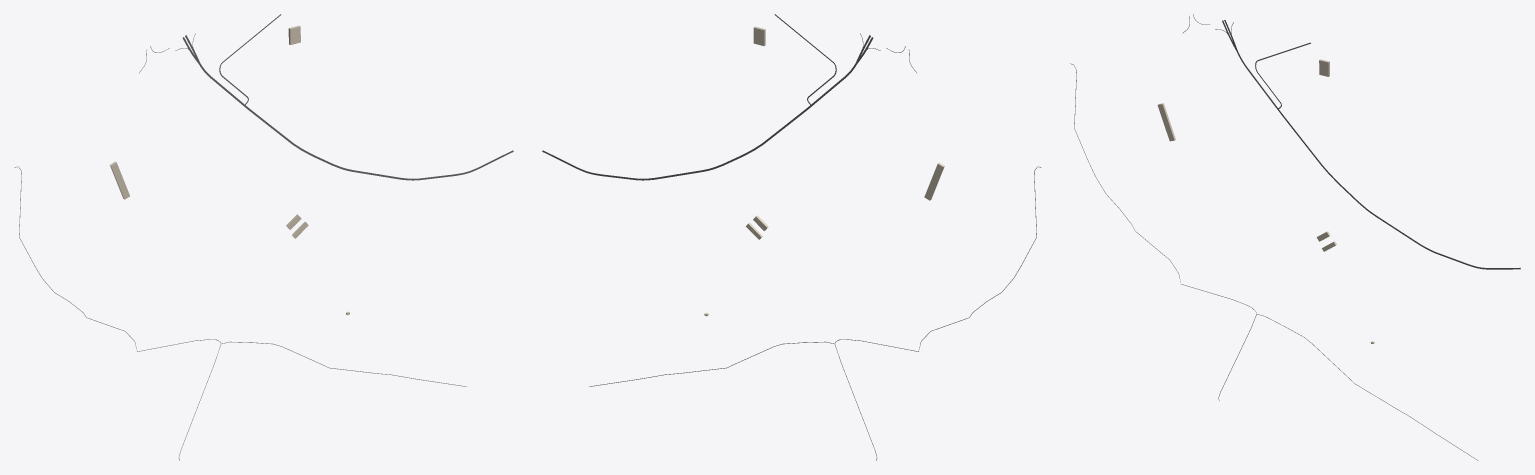
File: historic-palestine-08_30_3496_3244.glb
The picture shows the model from 3 angles, left to right: view 1: azimuth 30°, elevation 25°; view 2: azimuth 150°, elevation 25°; view 3: azimuth 330°, elevation 25°; orthographic projection. The views are drawn at different scales.
Parts seen in each view (by area): view 1: Road .007; view 2: Road .007; view 3: Road .007.
Part boxes in pixels (x1,y1,x2,y2): Road .007: (199,63,513,180); Road .007: (542,63,856,180); Road .007: (1237,51,1520,269).
Bounding box in the file's own units: 1499 × 1217 × 8.7.
